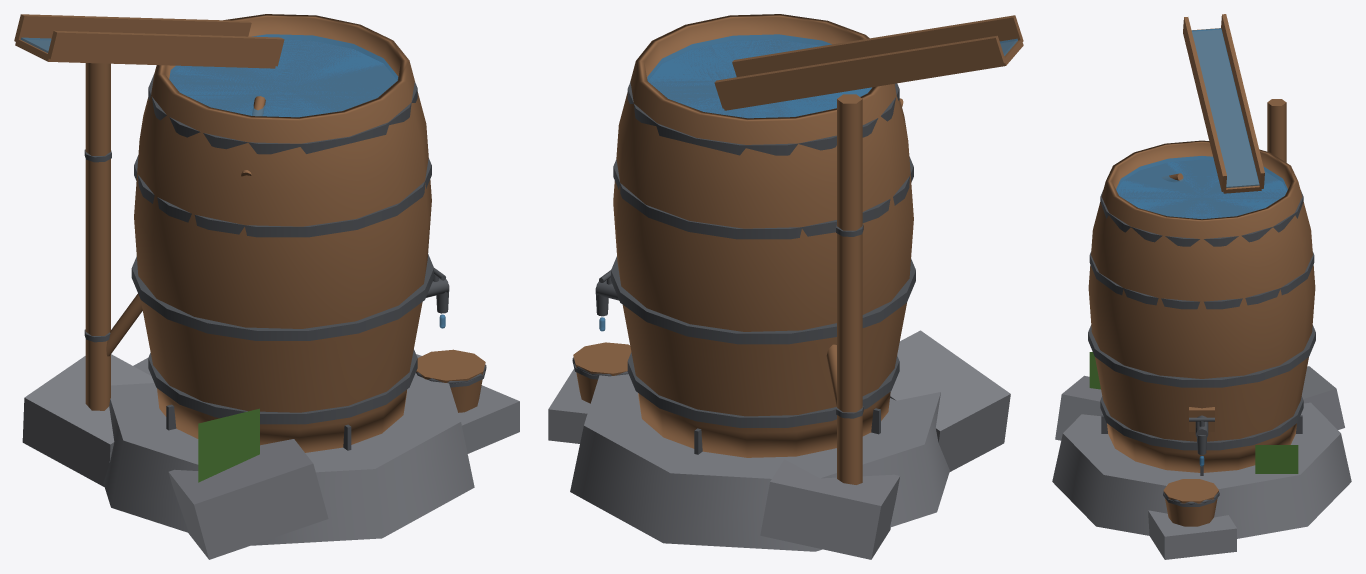
The model's file is rain-cistern.glb.
3 renders of one model, left to right at view 1: azimuth 30°, elevation 25°; view 2: azimuth 150°, elevation 25°; view 3: azimuth 270°, elevation 25°, orthographic. The views are drawn at different scales.
Parts seen in each view (by area): view 1: Mesh_BarrelBody, Mesh_BaseSlab, Mesh_IronHoop4, Mesh_WaterInside, Mesh_BaseRockB, Mesh_GutterPost, Mesh_BaseRockA, Mesh_GutterWallR, Mesh_IronHoop2, Mesh_GutterWallL, Mesh_IronHoop3, Mesh_IronHoop1 (+5 smaller); view 2: Mesh_BarrelBody, Mesh_BaseSlab, Mesh_GutterPost, Mesh_BaseRockA, Mesh_BaseRockB, Mesh_GutterWallL, Mesh_WaterInside, Mesh_IronHoop4, Mesh_GutterWallR, Mesh_IronHoop2, Mesh_IronHoop3, Mesh_IronHoop1 (+3 smaller); view 3: Mesh_BarrelBody, Mesh_BaseSlab, Mesh_WaterInside, Mesh_IronHoop4, Mesh_GutterBottom, Mesh_GutterWater, Mesh_BucketStep, Mesh_IronHoop2, Mesh_IronHoop1, Mesh_IronHoop3, Mesh_BucketBody, Mesh_GutterWallR (+6 smaller).
Boxes of the visible parts, left/top/right/bottom form: Mesh_BarrelBody: left=134, top=14, right=431, bottom=452; Mesh_BaseSlab: left=103, top=354, right=474, bottom=545; Mesh_IronHoop4: left=148, top=40, right=417, bottom=154; Mesh_WaterInside: left=169, top=34, right=398, bottom=117; Mesh_BaseRockB: left=168, top=439, right=328, bottom=559; Mesh_GutterPost: left=85, top=63, right=110, bottom=410; Mesh_BaseRockA: left=22, top=354, right=154, bottom=486; Mesh_GutterWallR: left=47, top=30, right=284, bottom=66; Mesh_IronHoop2: left=131, top=254, right=433, bottom=340; Mesh_GutterWallL: left=14, top=14, right=251, bottom=42; Mesh_IronHoop3: left=134, top=155, right=431, bottom=237; Mesh_IronHoop1: left=148, top=349, right=417, bottom=424; Mesh_BarrelBody: left=613, top=14, right=913, bottom=457; Mesh_BaseSlab: left=570, top=374, right=949, bottom=551; Mesh_GutterPost: left=837, top=94, right=862, bottom=484; Mesh_BaseRockA: left=760, top=459, right=900, bottom=559; Mesh_BaseRockB: left=890, top=330, right=1010, bottom=471; Mesh_GutterWallL: left=714, top=35, right=1005, bottom=108; Mesh_WaterInside: left=647, top=34, right=871, bottom=118; Mesh_IronHoop4: left=627, top=40, right=899, bottom=155; Mesh_GutterWallR: left=732, top=15, right=1023, bottom=77; Mesh_IronHoop2: left=611, top=256, right=915, bottom=344; Mesh_IronHoop3: left=613, top=156, right=913, bottom=239; Mesh_IronHoop1: left=627, top=352, right=899, bottom=427; Mesh_BarrelBody: left=1088, top=140, right=1315, bottom=472; Mesh_BaseSlab: left=1052, top=402, right=1351, bottom=538; Mesh_WaterInside: left=1116, top=156, right=1287, bottom=219; Mesh_IronHoop4: left=1100, top=160, right=1303, bottom=246; Mesh_GutterBottom: left=1192, top=28, right=1261, bottom=193; Mesh_GutterWater: left=1192, top=28, right=1259, bottom=187; Mesh_BucketStep: left=1148, top=510, right=1236, bottom=559; Mesh_IronHoop2: left=1088, top=325, right=1315, bottom=387; Mesh_IronHoop1: left=1100, top=396, right=1303, bottom=450; Mesh_IronHoop3: left=1089, top=251, right=1314, bottom=309; Mesh_BucketBody: left=1163, top=479, right=1218, bottom=526; Mesh_GutterWallR: left=1183, top=17, right=1226, bottom=191.
Size of the model in its own units: 1.9 by 1.96 by 1.4.
Materials: 2 (2 with a texture image).
